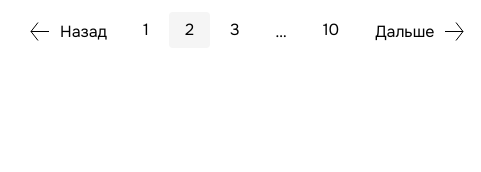
Test: Pagination › keeps the focus on the first page number after "Назад" leads there
The width and height of the screenshot is (481, 172).
Click the button "Назад" at (68, 32), box [12, 12, 123, 52]
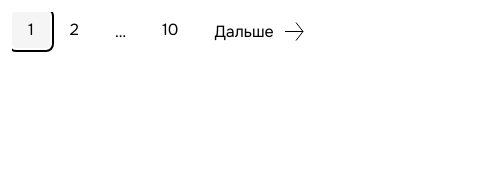
Result: the button "Назад" is gone
